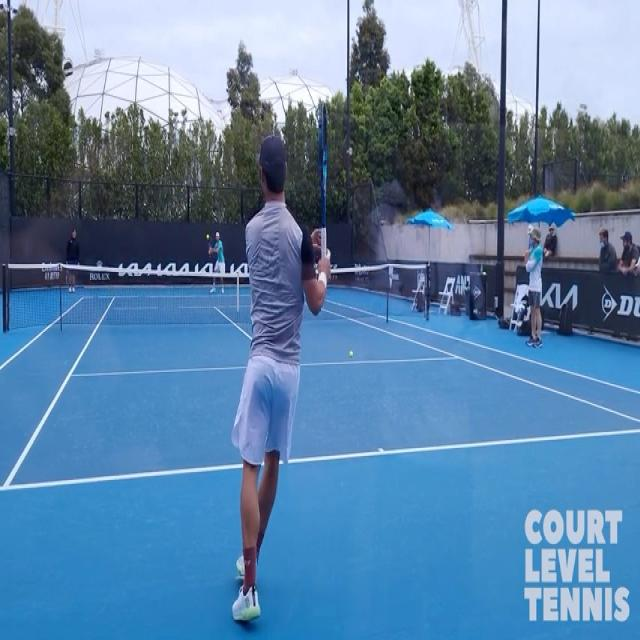backhand-finish: (222, 70, 346, 618)
